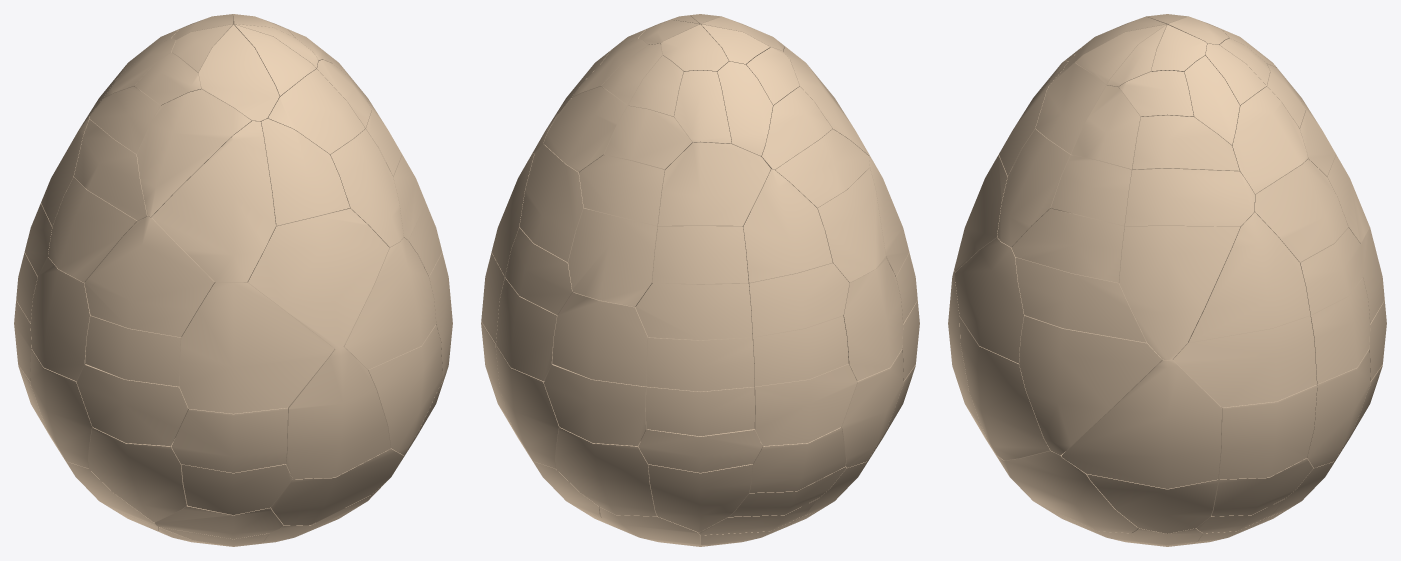
File: egg ROTO.fbx
3 renders of one model, left to right at view 1: azimuth 30°, elevation 25°; view 2: azimuth 150°, elevation 25°; view 3: azimuth 270°, elevation 25°, orthographic.
Visible parts, largest first — view 1: Ou_cell.078, Ou_cell.076, Ou_cell.055, Ou_cell.094, Ou_cell.023, Ou_cell.062, Ou_cell.034, Ou_cell.010, Ou_cell.091, Ou_cell.012, Ou_cell.092, Ou_cell.089 (+30 smaller); view 2: Ou_cell.027, Ou_cell.097, Ou_cell.071, Ou_cell.067, Ou_cell.086, Ou_cell.090, Ou_cell.068, Ou_cell.005, Ou_cell.032, Ou_cell.089, Ou_cell.052, Ou_cell.088 (+39 smaller); view 3: Ou_cell.080, Ou_cell.022, Ou_cell.096, Ou_cell.025, Ou_cell.019, Ou_cell.040, Ou_cell.016, Ou_cell.087, Ou_cell.098, Ou_cell.034, Ou_cell.018, Ou_cell.050 (+32 smaller).
Boxes of the visible parts, x1=… form: Ou_cell.078: x1=179, y1=282, x2=334, y2=413; Ou_cell.076: x1=247, y1=208, x2=389, y2=348; Ou_cell.055: x1=151, y1=121, x2=275, y2=282; Ou_cell.094: x1=84, y1=216, x2=215, y2=337; Ou_cell.023: x1=286, y1=347, x2=390, y2=479; Ou_cell.062: x1=137, y1=89, x2=251, y2=216; Ou_cell.034: x1=343, y1=237, x2=436, y2=369; Ou_cell.010: x1=171, y1=407, x2=287, y2=472; Ou_cell.091: x1=76, y1=364, x2=188, y2=446; Ou_cell.012: x1=261, y1=118, x2=349, y2=225; Ou_cell.092: x1=88, y1=427, x2=187, y2=522; Ou_cell.089: x1=30, y1=257, x2=90, y2=381; Ou_cell.027: x1=658, y1=142, x2=770, y2=226; Ou_cell.097: x1=552, y1=292, x2=648, y2=386; Ou_cell.071: x1=568, y1=208, x2=657, y2=306; Ou_cell.067: x1=742, y1=169, x2=832, y2=282; Ou_cell.086: x1=635, y1=283, x2=752, y2=340; Ou_cell.090: x1=754, y1=364, x2=857, y2=446; Ou_cell.068: x1=544, y1=364, x2=646, y2=445; Ou_cell.005: x1=555, y1=427, x2=656, y2=516; Ou_cell.032: x1=646, y1=337, x2=754, y2=391; Ou_cell.089: x1=843, y1=257, x2=903, y2=381; Ou_cell.052: x1=748, y1=263, x2=849, y2=337; Ou_cell.088: x1=652, y1=226, x2=748, y2=283; Ou_cell.080: x1=1061, y1=359, x2=1221, y2=488; Ou_cell.022: x1=1019, y1=315, x2=1162, y2=455; Ou_cell.096: x1=1119, y1=226, x2=1240, y2=359; Ou_cell.025: x1=1188, y1=212, x2=1310, y2=342; Ou_cell.019: x1=1173, y1=315, x2=1316, y2=407; Ou_cell.040: x1=1125, y1=168, x2=1254, y2=226; Ou_cell.016: x1=1218, y1=385, x2=1317, y2=479; Ou_cell.087: x1=1015, y1=257, x2=1146, y2=342; Ou_cell.098: x1=959, y1=317, x2=1050, y2=460; Ou_cell.034: x1=955, y1=237, x2=1025, y2=363; Ou_cell.018: x1=1254, y1=159, x2=1348, y2=262; Ou_cell.050: x1=1011, y1=208, x2=1124, y2=282.
Bounding box in the file's own units: 200 × 253 × 200.
